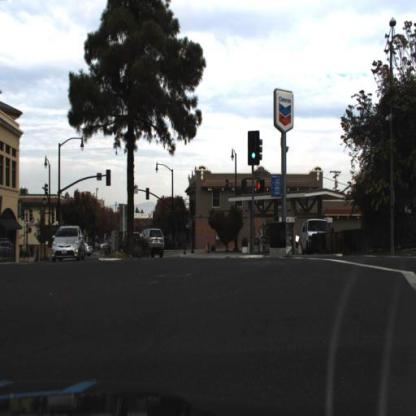car: (49, 222, 85, 264), (300, 215, 332, 255), (137, 226, 166, 257)
trafficLight-Green: (249, 129, 261, 169)
